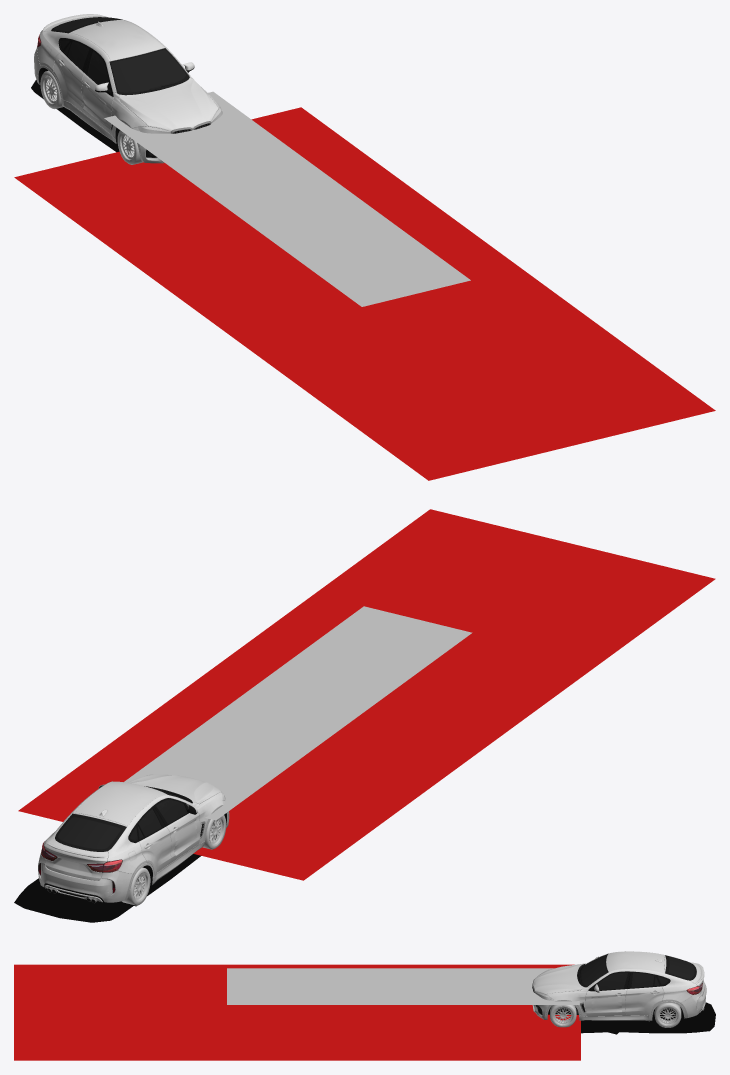
File: car34.fbx
The picture shows the model from 3 angles, top to bottom: view 1: azimuth 30°, elevation 25°; view 2: azimuth 150°, elevation 25°; view 3: azimuth 270°, elevation 25°; orthographic projection. The views are drawn at different scales.
Parts seen in each view (by area): view 1: light_ground, far_lights, bmw_x6; view 2: light_ground, far_lights, bmw_x6, shadow_car, wheel_RR; view 3: light_ground, far_lights, bmw_x6, shadow_car, wheel_RL, wheel_FL, decalSide.
Part boxes in pixels (x1=…): light_ground: x1=14, y1=107, x2=715, y2=480; far_lights: x1=104, y1=91, x2=470, y2=306; bmw_x6: x1=34, y1=14, x2=222, y2=163; light_ground: x1=18, y1=509, x2=715, y2=880; far_lights: x1=124, y1=606, x2=472, y2=820; bmw_x6: x1=38, y1=774, x2=229, y2=903; shadow_car: x1=14, y1=854, x2=201, y2=922; wheel_RR: x1=122, y1=867, x2=150, y2=905; light_ground: x1=14, y1=964, x2=580, y2=1060; far_lights: x1=227, y1=968, x2=579, y2=1004; bmw_x6: x1=532, y1=951, x2=706, y2=1021; shadow_car: x1=581, y1=1002, x2=715, y2=1034; wheel_RL: x1=654, y1=1003, x2=681, y2=1027; wheel_FL: x1=550, y1=1005, x2=576, y2=1027; decalSide: x1=591, y1=997, x2=621, y2=1012.
Bounding box in the file's own units: 44.5 × 11.86 × 138.
